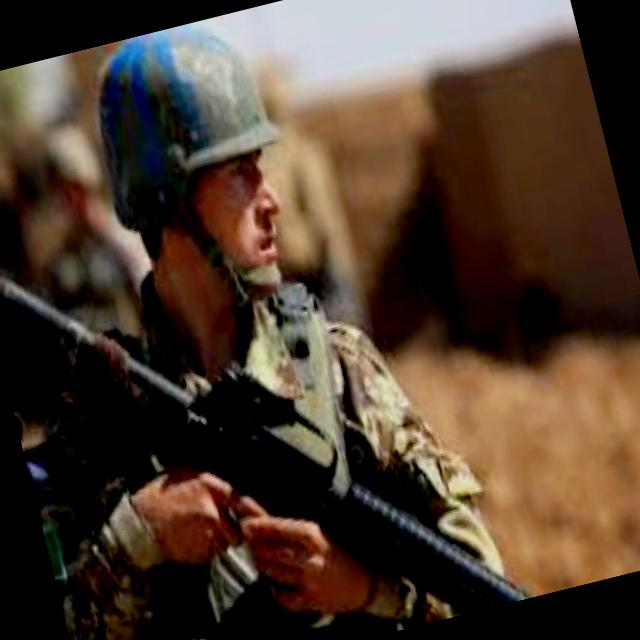m16: (0, 119, 574, 640)
